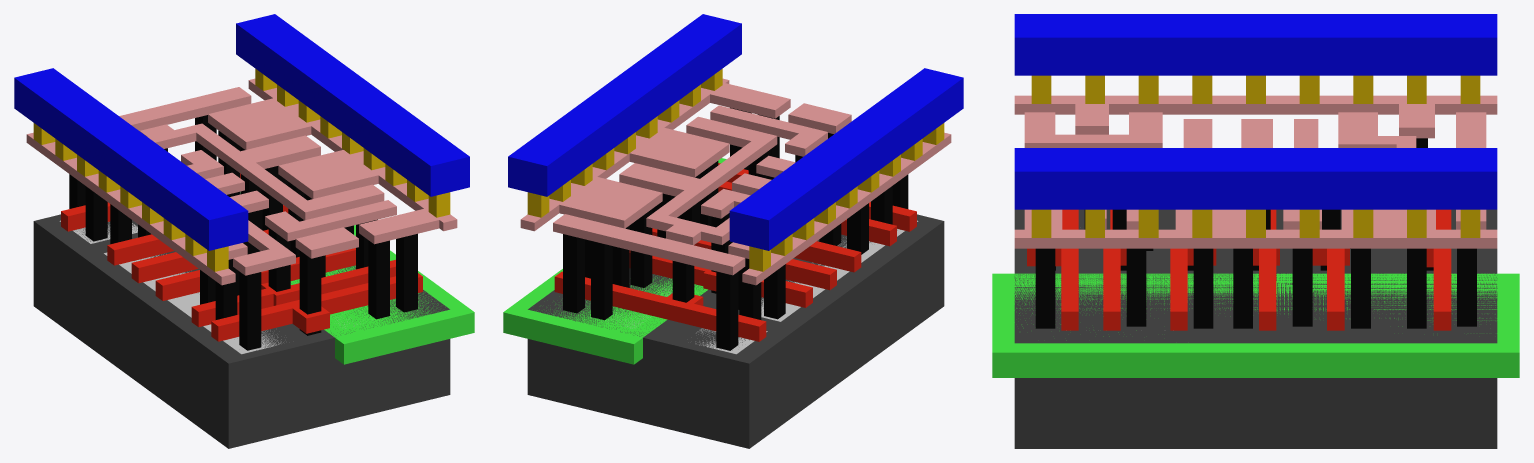
File: sky130_fd_sc_hd__o2111a_1.obj
3 renders of one model, left to right at view 1: azimuth 30°, elevation 25°; view 2: azimuth 150°, elevation 25°; view 3: azimuth 270°, elevation 25°, orthographic. The views are drawn at different scales.
Parts seen in each view (by area): view 1: subs, metal1, li, licon, poly, nwell, mcon, diff; view 2: subs, metal1, li, licon, poly, nwell, mcon, diff; view 3: metal1, subs, li, nwell, licon, poly, mcon.
Part boxes in pixels (x1=…): subs: x1=33, y1=191, x2=450, y2=448; metal1: x1=14, y1=14, x2=469, y2=250; li: x1=26, y1=78, x2=457, y2=285; licon: x1=69, y1=115, x2=417, y2=350; poly: x1=61, y1=173, x2=422, y2=341; nwell: x1=240, y1=192, x2=474, y2=364; mcon: x1=33, y1=68, x2=450, y2=271; diff: x1=59, y1=220, x2=283, y2=354; subs: x1=527, y1=214, x2=944, y2=448; metal1: x1=508, y1=14, x2=963, y2=250; li: x1=520, y1=78, x2=951, y2=285; licon: x1=563, y1=107, x2=908, y2=350; poly: x1=554, y1=163, x2=916, y2=341; nwell: x1=503, y1=158, x2=726, y2=364; mcon: x1=527, y1=68, x2=944, y2=271; diff: x1=695, y1=220, x2=918, y2=354; metal1: x1=1014, y1=14, x2=1497, y2=209; subs: x1=1014, y1=209, x2=1497, y2=448; li: x1=1014, y1=95, x2=1497, y2=248; nwell: x1=992, y1=273, x2=1519, y2=377; licon: x1=1035, y1=138, x2=1476, y2=328; poly: x1=1027, y1=209, x2=1451, y2=330; mcon: x1=1031, y1=75, x2=1480, y2=237.
Size of the model in its own units: 3.2 by 2.74 by 4.52.
